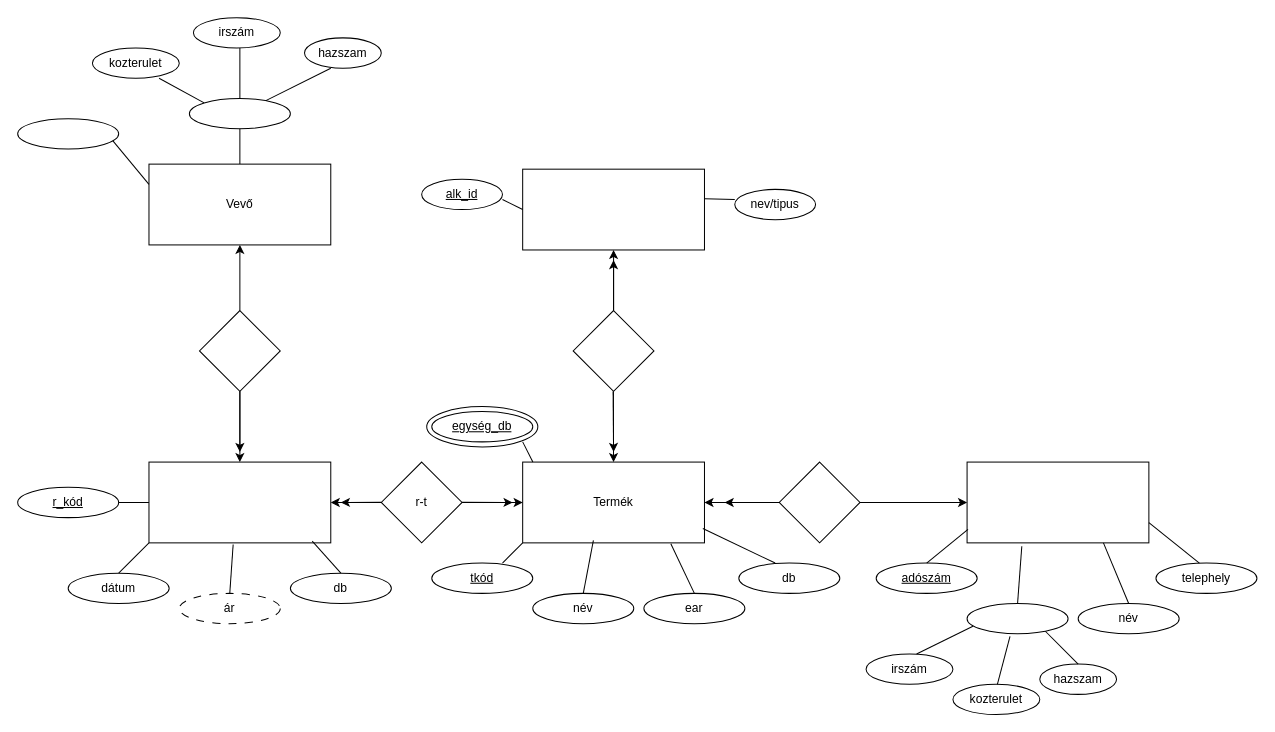
This 1275x732 diagram has some shape labels left out. The centre of each missing label's shape, as x and y in pixels:
"a-t" goes at pixel 613 350.
"Alkatrész" goes at pixel 613 209.
"Gyártó" goes at pixel 1057 502.
"postaicím" goes at pixel 1017 618.
"Rendelés" goes at pixel 239 502.
"szállítási_cím" goes at pixel 239 113.
"t-gy" goes at pixel 819 502.
"v-r" goes at pixel 239 350.
"v_kód" goes at pixel 68 133.
